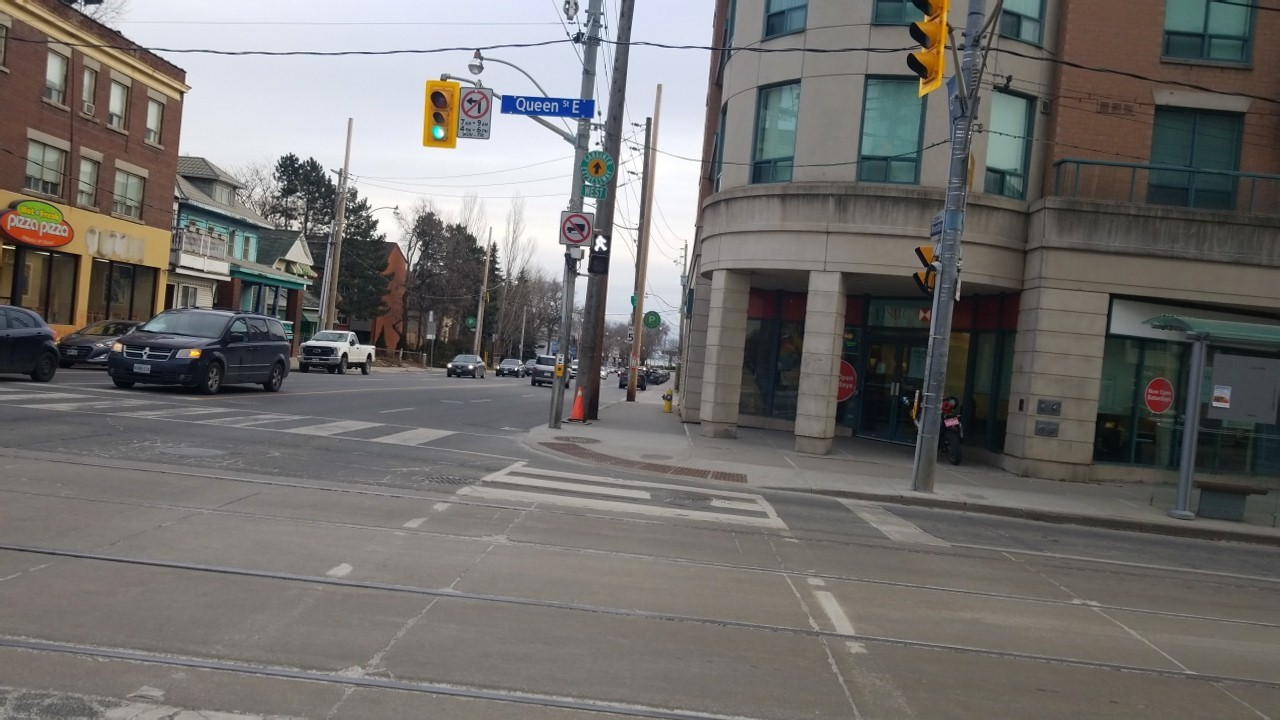light: (587, 228, 613, 276)
